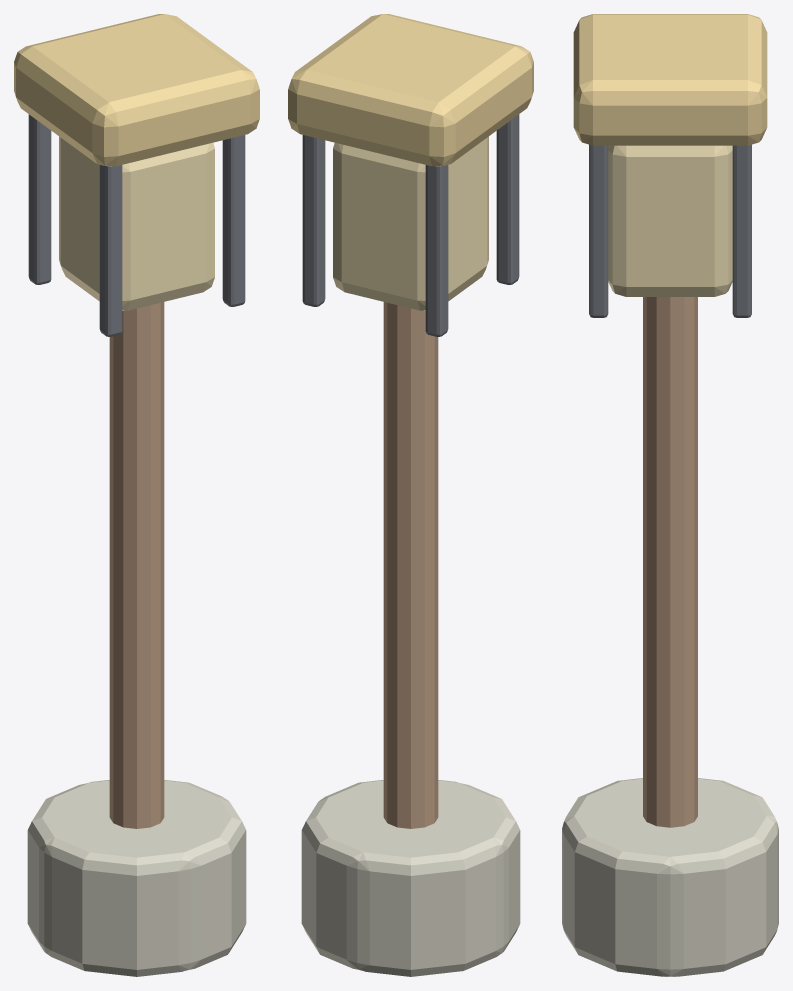
Rendered from lantern.glb.
3 views of the same model, side by side, from view 1: azimuth 30°, elevation 25°; view 2: azimuth 150°, elevation 25°; view 3: azimuth 270°, elevation 25° (orthographic).
Visible parts, largest first — view 1: Sculpt__Limestone, Sculpt__Honey oak, Sculpt__Hammered brass, Sculpt__Lantern glass, Sculpt__Leather and sockets; view 2: Sculpt__Limestone, Sculpt__Honey oak, Sculpt__Hammered brass, Sculpt__Lantern glass, Sculpt__Leather and sockets; view 3: Sculpt__Limestone, Sculpt__Honey oak, Sculpt__Hammered brass, Sculpt__Lantern glass, Sculpt__Leather and sockets.
Boxes of the visible parts, x1,y1,x2,y2 form: Sculpt__Limestone: [27, 780, 246, 976]; Sculpt__Honey oak: [109, 302, 164, 828]; Sculpt__Hammered brass: [14, 14, 259, 166]; Sculpt__Lantern glass: [59, 136, 214, 310]; Sculpt__Leather and sockets: [28, 114, 245, 336]; Sculpt__Limestone: [301, 780, 520, 976]; Sculpt__Honey oak: [383, 302, 438, 828]; Sculpt__Hammered brass: [288, 14, 533, 166]; Sculpt__Lantern glass: [333, 136, 488, 310]; Sculpt__Leather and sockets: [302, 114, 519, 336]; Sculpt__Limestone: [562, 778, 778, 976]; Sculpt__Honey oak: [643, 297, 697, 827]; Sculpt__Hammered brass: [573, 14, 767, 145]; Sculpt__Lantern glass: [608, 145, 732, 296]; Sculpt__Leather and sockets: [589, 144, 751, 317].
Bounding box in the file's own units: 0.3924 × 1.78 × 0.3924.
